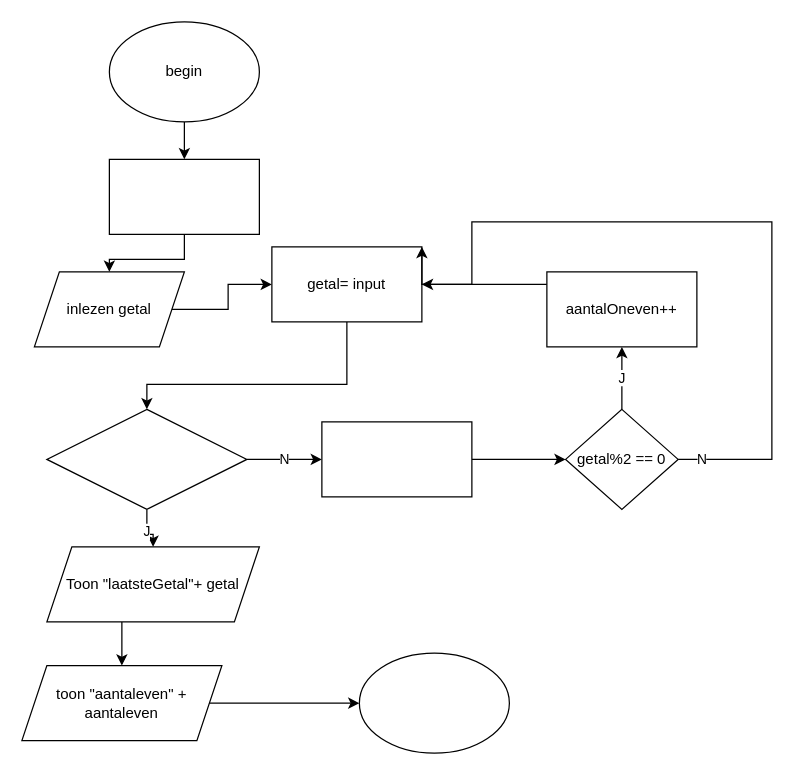
This 804x775 diagram has some shape labels left out. The centre of each missing label's shape, as x and y in pixels:
"einde" belongs at [433,702].
"getal =0 vorigGetal =0 aantalOneven =0" belongs at [183,196].
"getal == vorigGetal*2" belongs at [146,458].
"vorigGetal = getal" belongs at [396,459].
